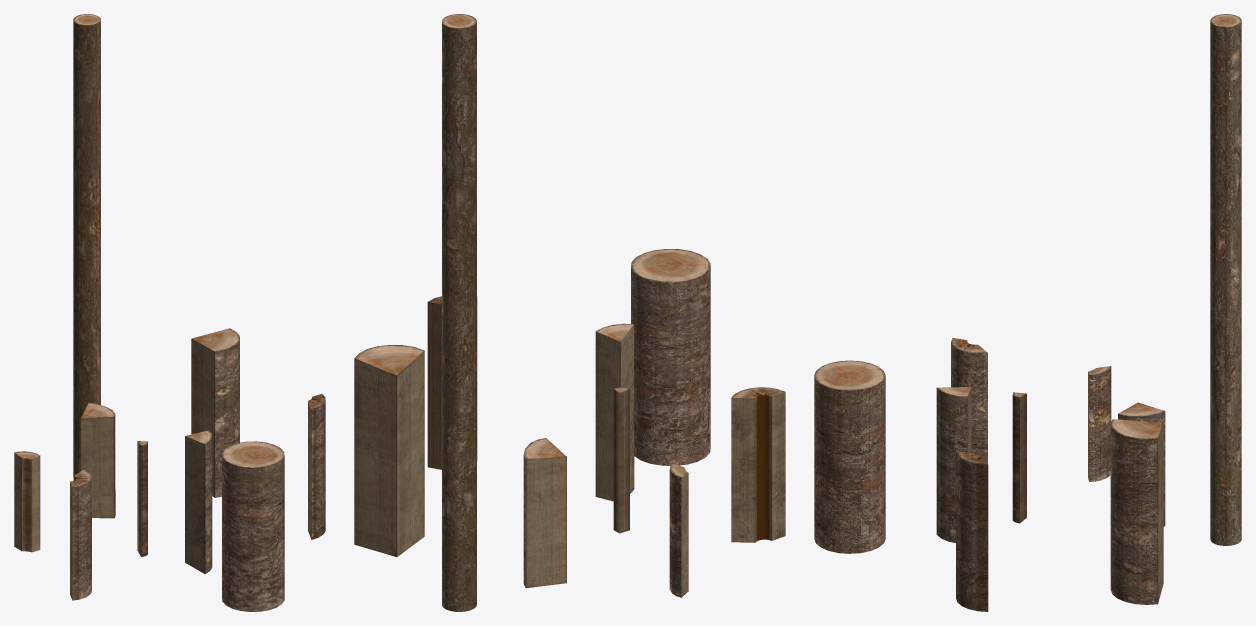
Rendered from wood_pile_pack.glb.
The picture shows the model from 3 angles, left to right: view 1: azimuth 30°, elevation 25°; view 2: azimuth 150°, elevation 25°; view 3: azimuth 270°, elevation 25°; orthographic projection. The views are drawn at different scales.
Parts seen in each view (by area): view 1: Wood_Pole, Wood_Piece_5, Wood_Piece_6, Wood_Piece_1, Wood_Piece_4, Wood_Piece_7, Wood_Piece_2, Wood_Piece_8, Wood_Piece_3; view 2: Wood_Pole, Wood_Piece_5, Wood_Piece_6, Wood_Piece_7, Wood_Piece_4, Wood_Piece_1, Wood_Piece_8, Wood_Piece_2, Wood_Piece_3; view 3: Wood_Pole, Wood_Piece_5, Wood_Piece_6, Wood_Piece_8, Wood_Piece_1, Wood_Piece_7, Wood_Piece_2, Wood_Piece_3, Wood_Piece_4.
Boxes of the visible parts, x1,y1,x2,y2 form: Wood_Pole: (73, 14, 100, 476); Wood_Piece_5: (222, 441, 284, 611); Wood_Piece_6: (191, 328, 239, 497); Wood_Piece_1: (185, 430, 212, 573); Wood_Piece_4: (80, 403, 115, 518); Wood_Piece_7: (70, 469, 91, 600); Wood_Piece_2: (14, 451, 40, 552); Wood_Piece_8: (308, 394, 325, 539); Wood_Piece_3: (137, 441, 147, 556); Wood_Pole: (442, 14, 476, 611); Wood_Piece_5: (631, 249, 710, 465); Wood_Piece_6: (354, 345, 424, 556); Wood_Piece_7: (731, 387, 785, 542); Wood_Piece_4: (523, 438, 566, 588); Wood_Piece_1: (595, 323, 634, 501); Wood_Piece_8: (427, 296, 477, 469); Wood_Piece_2: (669, 463, 688, 597); Wood_Piece_3: (613, 387, 629, 533); Wood_Pole: (1210, 14, 1241, 545); Wood_Piece_5: (814, 360, 885, 553); Wood_Piece_6: (1110, 419, 1163, 604); Wood_Piece_8: (956, 451, 988, 611); Wood_Piece_1: (936, 387, 971, 542); Wood_Piece_7: (951, 338, 987, 462); Wood_Piece_2: (1088, 366, 1111, 481); Wood_Piece_3: (1012, 392, 1026, 523); Wood_Piece_4: (1118, 402, 1165, 526).
Size of the model in its own units: 19.1 by 31.67 by 23.54.
Materials: 1 (1 with a texture image).
